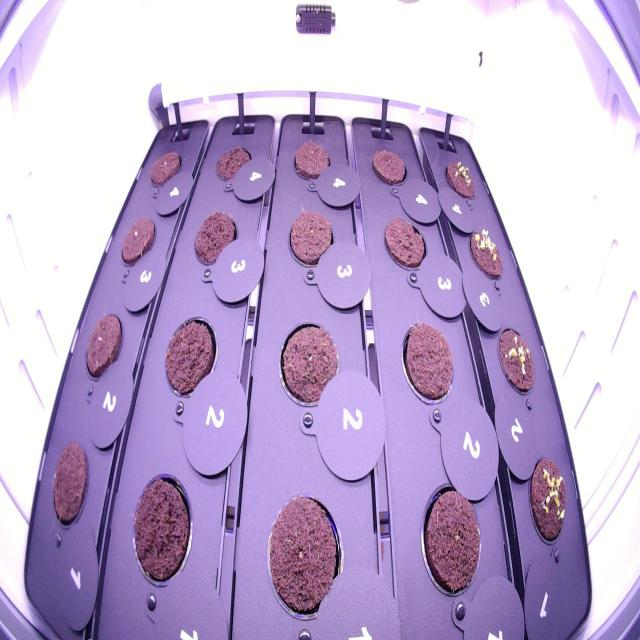germination: (524, 450, 571, 550), (493, 321, 540, 404), (465, 221, 506, 286), (440, 152, 480, 208)
pod: (262, 488, 348, 628), (414, 474, 489, 606), (126, 465, 196, 597), (272, 314, 344, 416), (396, 314, 458, 416), (160, 309, 222, 409), (46, 436, 92, 536), (190, 202, 241, 278), (79, 306, 126, 386), (284, 202, 336, 274), (379, 211, 430, 280), (287, 131, 334, 189), (208, 137, 256, 193), (116, 211, 159, 273), (366, 142, 411, 194), (145, 141, 185, 192)
